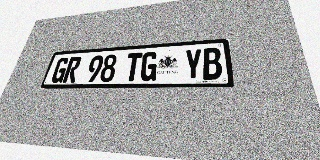8: (99, 54, 118, 82)
9: (85, 55, 105, 82)
B: (202, 47, 223, 80)
G: (139, 51, 158, 81), (50, 57, 70, 83)
R: (62, 56, 82, 83)
T: (123, 52, 143, 81)
Y: (184, 49, 202, 80)
